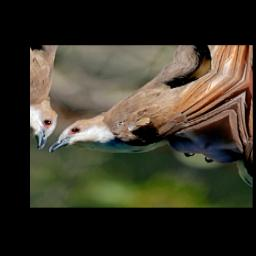Cuckoo: (48, 46, 253, 188)
